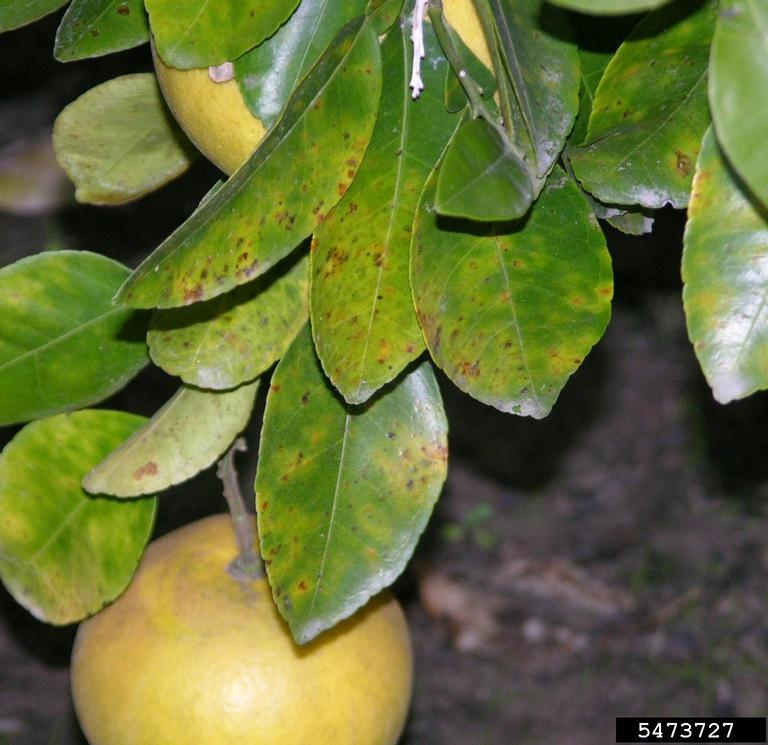Citrus Greening: (110, 9, 386, 312), (404, 106, 620, 420), (257, 309, 451, 652)
